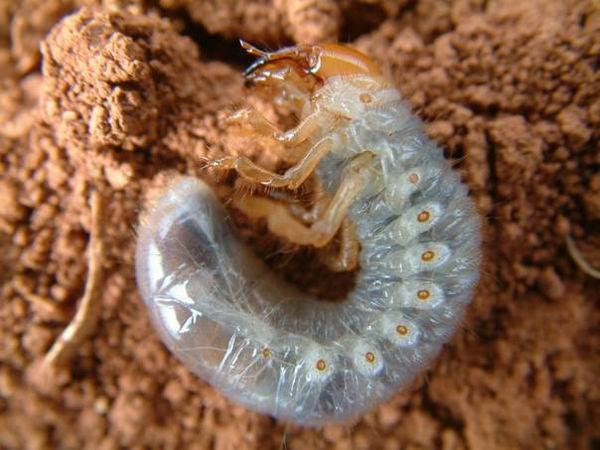grub: (132, 29, 490, 420)
